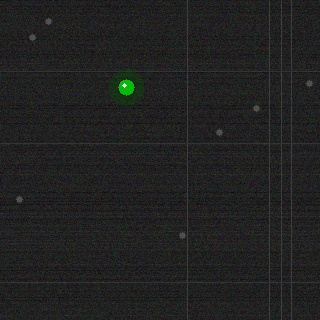green_normal: (116, 77, 136, 97)
